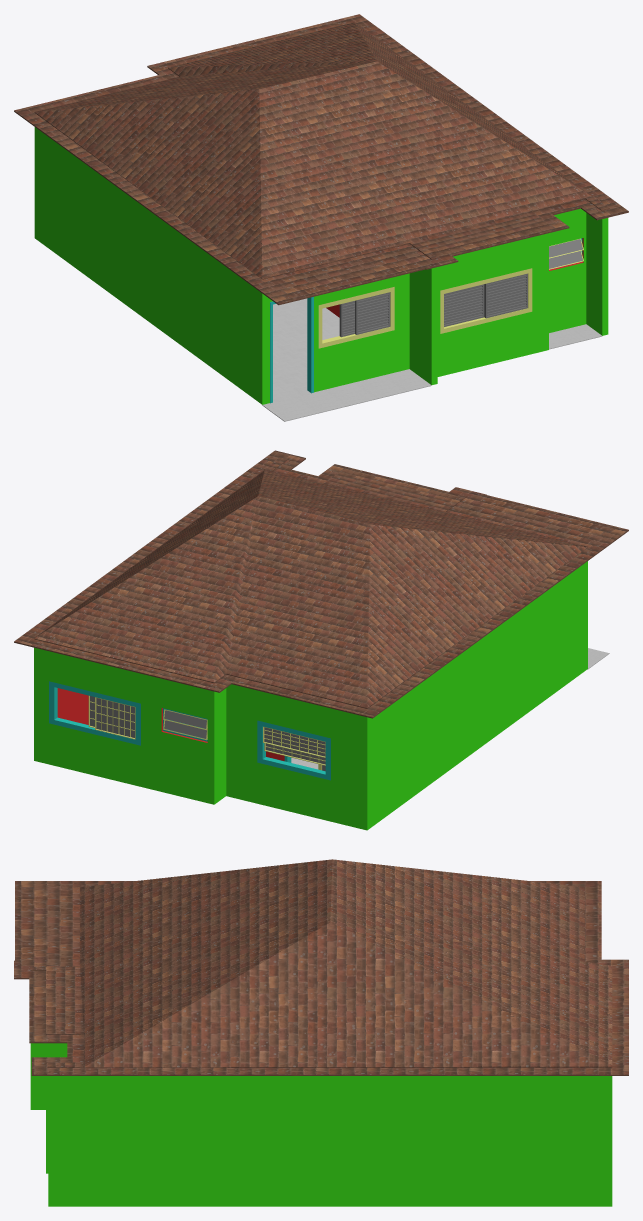
The model's file is Casa_fix_telhado.fbx.
The picture shows the model from 3 angles, top to bottom: view 1: azimuth 30°, elevation 25°; view 2: azimuth 150°, elevation 25°; view 3: azimuth 270°, elevation 25°; orthographic projection. The views are drawn at different scales.
Visible parts, largest first — view 1: telhadoCima, parede_all, telhadoFora, janela_suite, chao_cozinha/salaDeEstar, chao_varanda, janela_sala, porta_varanda, janela_banheiro, chao_grama; view 2: telhadoCima, parede_all, telhadoFora, janela_dormitorio, janela_lavanderia, janela_banheiro2; view 3: telhadoCima, parede_all, telhadoFora.
Part boxes in pixels (x1,y1,x2,y2): telhadoCima: [34, 22, 609, 279]; parede_all: [34, 127, 608, 404]; telhadoFora: [14, 14, 628, 305]; janela_suite: [440, 268, 532, 333]; chao_cozinha/salaDeEstar: [273, 298, 339, 398]; chao_varanda: [262, 369, 431, 421]; janela_sala: [318, 287, 394, 348]; porta_varanda: [270, 297, 313, 403]; janela_banheiro: [549, 238, 583, 269]; chao_grama: [549, 324, 602, 349]; telhadoCima: [34, 457, 587, 708]; parede_all: [34, 561, 587, 830]; telhadoFora: [14, 450, 628, 718]; janela_dormitorio: [49, 681, 140, 745]; janela_lavanderia: [257, 720, 330, 780]; janela_banheiro2: [163, 708, 207, 741]; telhadoCima: [30, 859, 612, 1067]; parede_all: [30, 1043, 612, 1206]; telhadoFora: [14, 881, 628, 1075].
Size of the model in its own units: 603 by 333 by 810.
